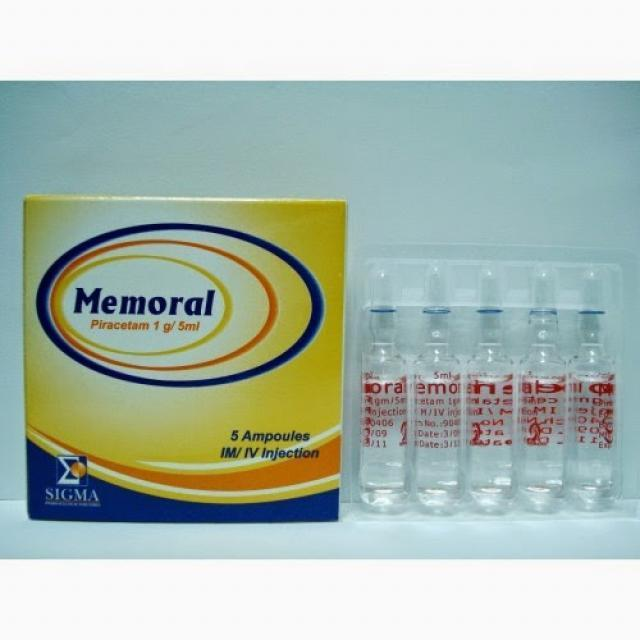drug-name: (73, 286, 218, 318)
